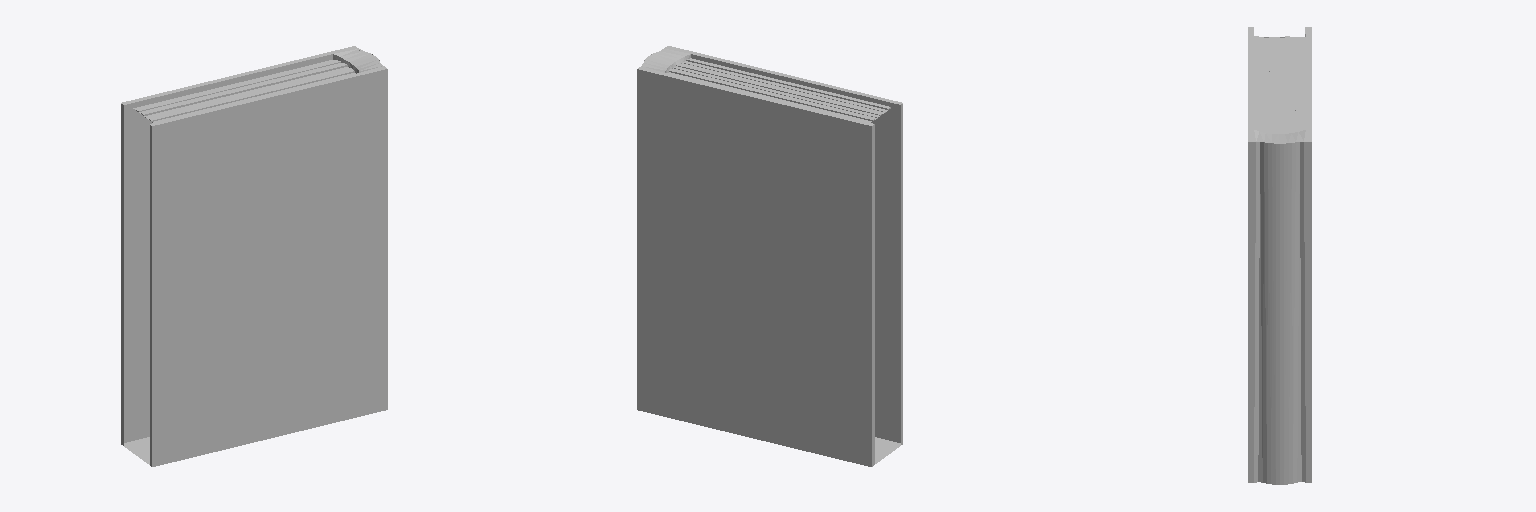
Rendered from book1.obj.
The picture shows the model from 3 angles: view 1: azimuth 30°, elevation 25°; view 2: azimuth 150°, elevation 25°; view 3: azimuth 270°, elevation 25°; orthographic projection.
Parts seen in each view (by area): view 1: Cube.004; view 2: Cube.004; view 3: Cube.004.
Part boxes in pixels (x1,y1,x2,y2): Cube.004: (121,46,387,466); Cube.004: (637,46,902,466); Cube.004: (1248,27,1311,484).
Size of the model in its own units: 0.3989 by 0.5441 by 0.0921.